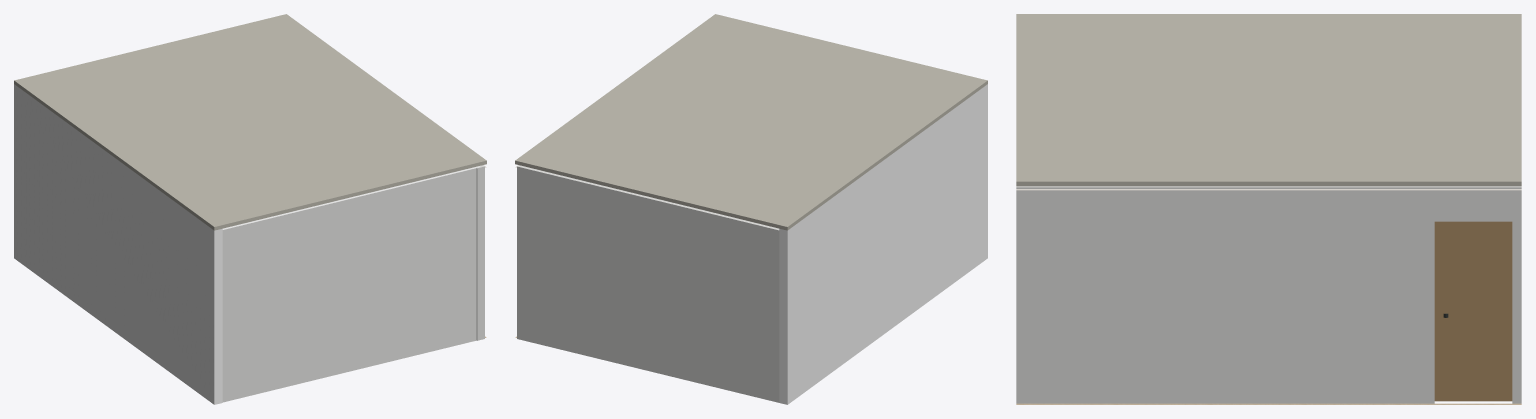
3 renders of one model, left to right at view 1: azimuth 30°, elevation 25°; view 2: azimuth 150°, elevation 25°; view 3: azimuth 270°, elevation 25°, orthographic. The views are drawn at different scales.
Visible parts, largest first — view 1: Proposal | New wing ground floor.001, Proposal | Cinema south wall.001, Proposal | Entertainment basement retaining west.001, Proposal | Cinema east wall pier 1.001; view 2: Proposal | New wing ground floor.001, Proposal | Cinema north wall.001, Proposal | Entertainment basement retaining west.001; view 3: Proposal | Cinema east wall pier 1.001, Proposal | New wing ground floor.001, Proposal | Basement cinema door leaf.001, Proposal | Cinema east wall head 1.001, Proposal | Cinema north wall.001, Bar 01 | limestone floor finish.001, Bar 01 | ivory ceiling lining.001.
Part boxes in pixels (box(x1,y1,x2,y2)): Proposal | New wing ground floor.001: box(14, 14, 486, 230); Proposal | Cinema south wall.001: box(222, 166, 479, 402); Proposal | Entertainment basement retaining west.001: box(14, 84, 222, 404); Proposal | Cinema east wall pier 1.001: box(476, 165, 484, 340); Proposal | New wing ground floor.001: box(515, 14, 987, 230); Proposal | Cinema north wall.001: box(517, 165, 779, 402); Proposal | Entertainment basement retaining west.001: box(779, 84, 987, 404); Proposal | Cinema east wall pier 1.001: box(1016, 186, 1434, 403); Proposal | New wing ground floor.001: box(1016, 14, 1521, 186); Proposal | Basement cinema door leaf.001: box(1434, 221, 1512, 401); Proposal | Cinema east wall head 1.001: box(1434, 186, 1514, 221); Proposal | Cinema north wall.001: box(1512, 186, 1521, 403); Bar 01 | limestone floor finish.001: box(1016, 403, 1521, 404); Bar 01 | ivory ceiling lining.001: box(1016, 189, 1521, 190).
Size of the model in its own units: 4.22 by 2.63 by 5.37.
22 materials, 7 textured.
